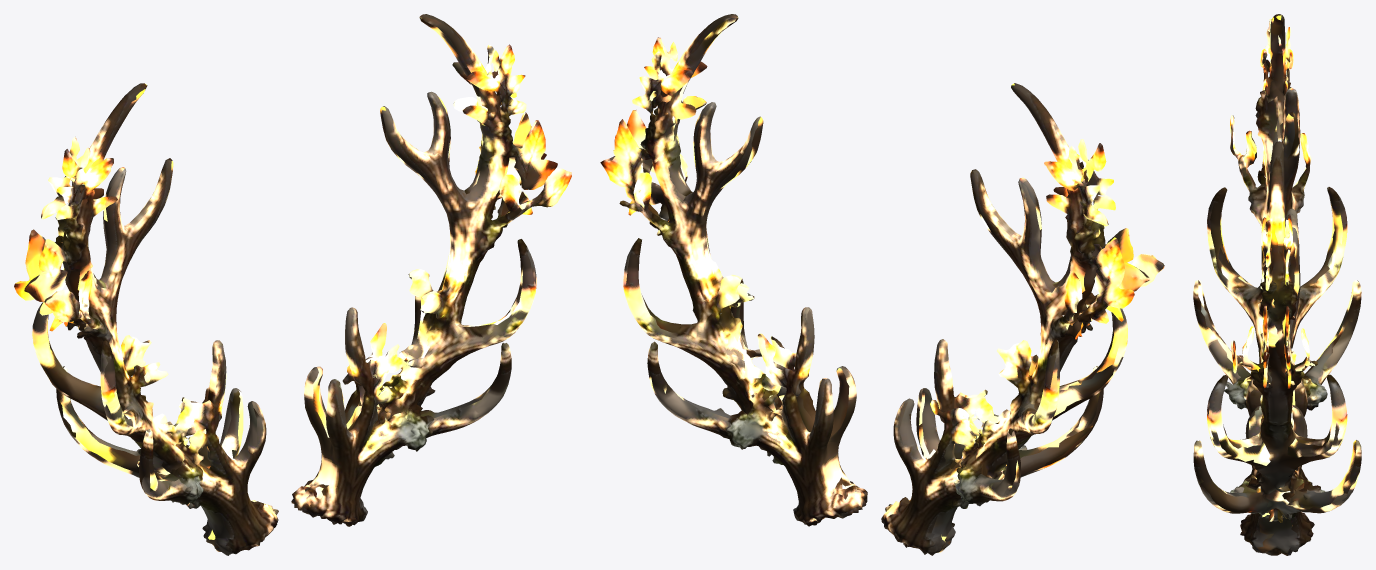
Rendered from sylva_antler_crown.glb.
3 renders of one model, left to right at view 1: azimuth 30°, elevation 25°; view 2: azimuth 150°, elevation 25°; view 3: azimuth 270°, elevation 25°, orthographic. The views are drawn at different scales.
Parts seen in each view (by area): view 1: geometry_0; view 2: geometry_0; view 3: geometry_0.
Boxes of the visible parts, left/top/right/bottom form: geometry_0: left=14, top=14, right=571, bottom=555; geometry_0: left=600, top=14, right=1164, bottom=555; geometry_0: left=1193, top=14, right=1361, bottom=555.
Bounding box in the file's own units: 0.5996 × 0.5198 × 0.1769.
Materials: 1 (1 with a texture image).
